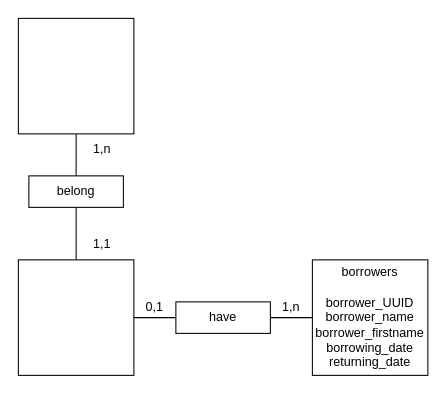
Image size: 446x394. Some labels were removed from this diagram. The shapes that lost their labels are listed below. From the top down, each one's centre as x and y in pixels, then its label:
At point (75, 75): "libraries library_UUID library_name library_adress".
At point (75, 317): "books book_UUID book_name book_author book_description book_release_date".
